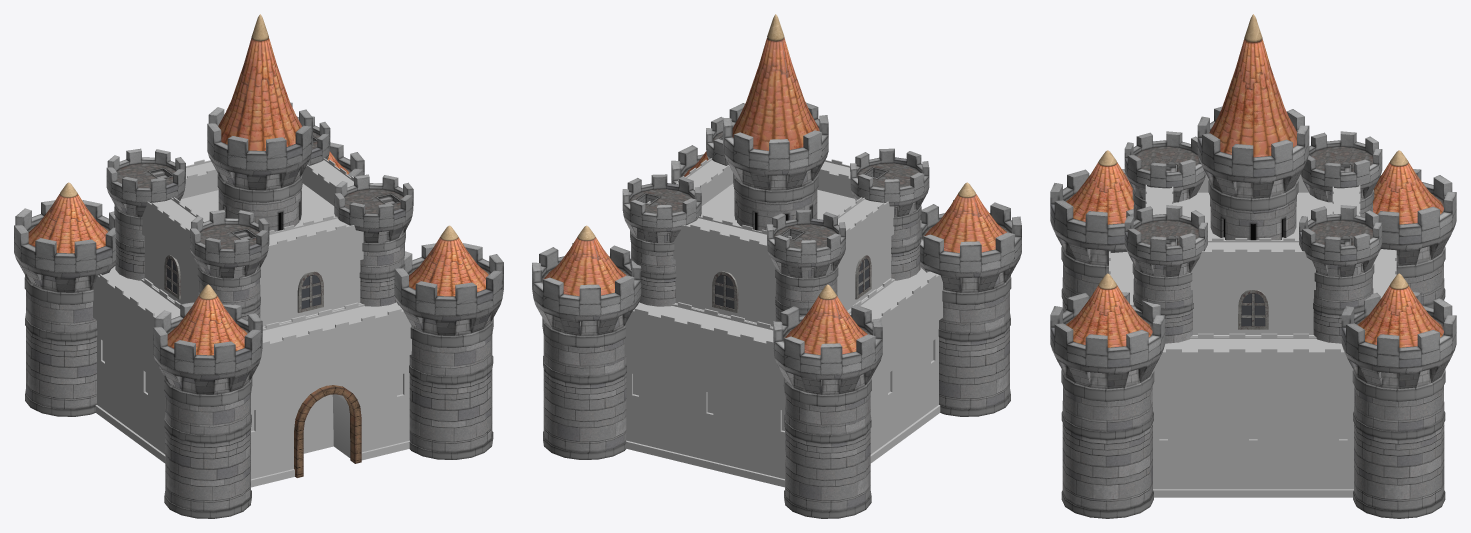
Rendered from sb_obj_outdoor001_Castle01_set01.fbx.
3 renders of one model, left to right at view 1: azimuth 30°, elevation 25°; view 2: azimuth 150°, elevation 25°; view 3: azimuth 270°, elevation 25°, orthographic. The views are drawn at different scales.
Visible parts, largest first — view 1: sb_obj_outdoor001_Castle01_set01; view 2: sb_obj_outdoor001_Castle01_set01; view 3: sb_obj_outdoor001_Castle01_set01.
Part boxes in pixels (bbox=[...]): sb_obj_outdoor001_Castle01_set01: bbox=[14, 14, 503, 518]; sb_obj_outdoor001_Castle01_set01: bbox=[532, 14, 1021, 518]; sb_obj_outdoor001_Castle01_set01: bbox=[1050, 14, 1456, 518].
Bounding box in the file's own units: 13.95 × 16.07 × 13.95.
